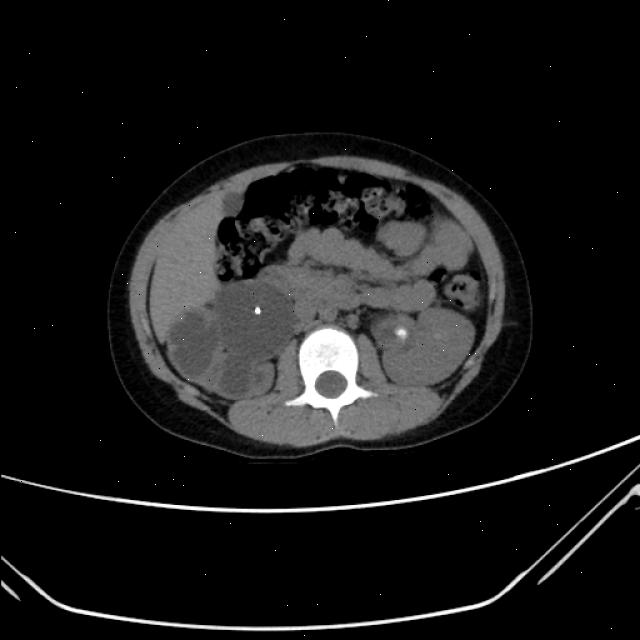kidneystone: (394, 321, 414, 344)
